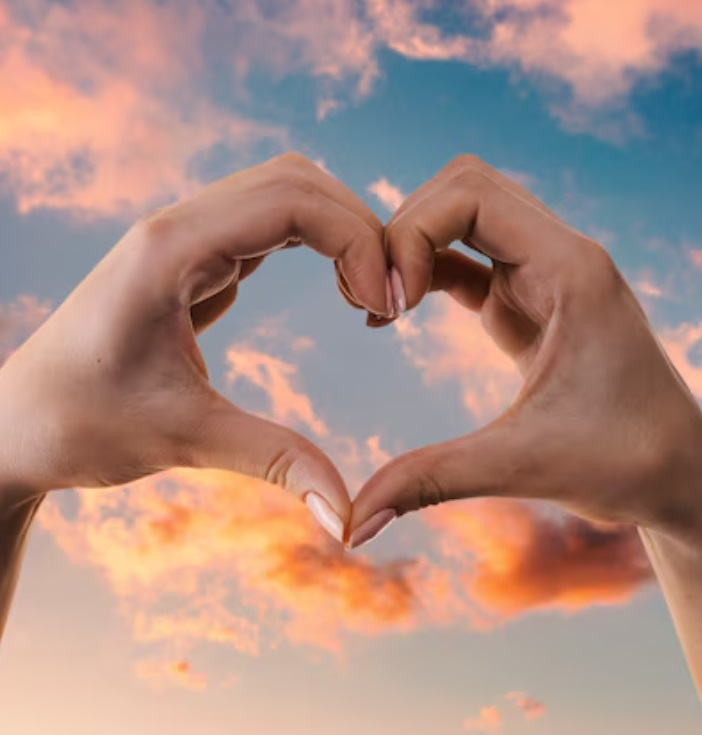heart: (9, 153, 687, 553)
